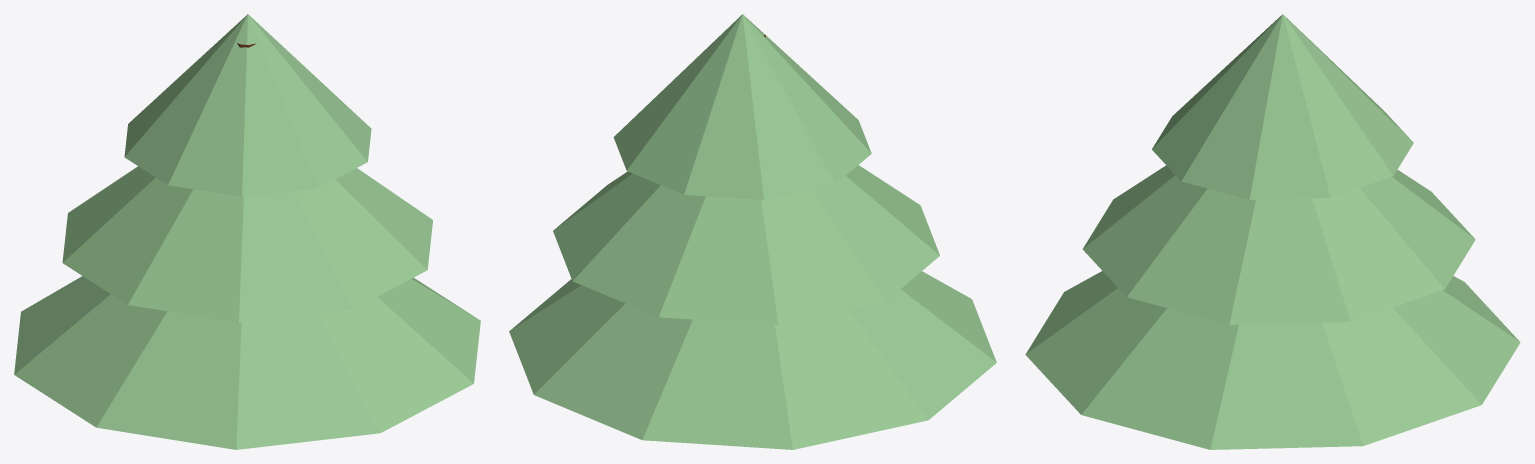
Rendered from nature_pine_spreading.glb.
The picture shows the model from 3 angles, left to right: view 1: azimuth 30°, elevation 25°; view 2: azimuth 150°, elevation 25°; view 3: azimuth 270°, elevation 25°; orthographic projection. The views are drawn at different scales.
Parts seen in each view (by area): view 1: world; view 2: world; view 3: world.
Part boxes in pixels (bbox=[...]): world: bbox=[14, 14, 480, 449]; world: bbox=[509, 14, 996, 449]; world: bbox=[1025, 14, 1520, 449].
Bounding box in the file's own units: 1.94 × 1.5 × 2.
2 materials, 1 textured.
